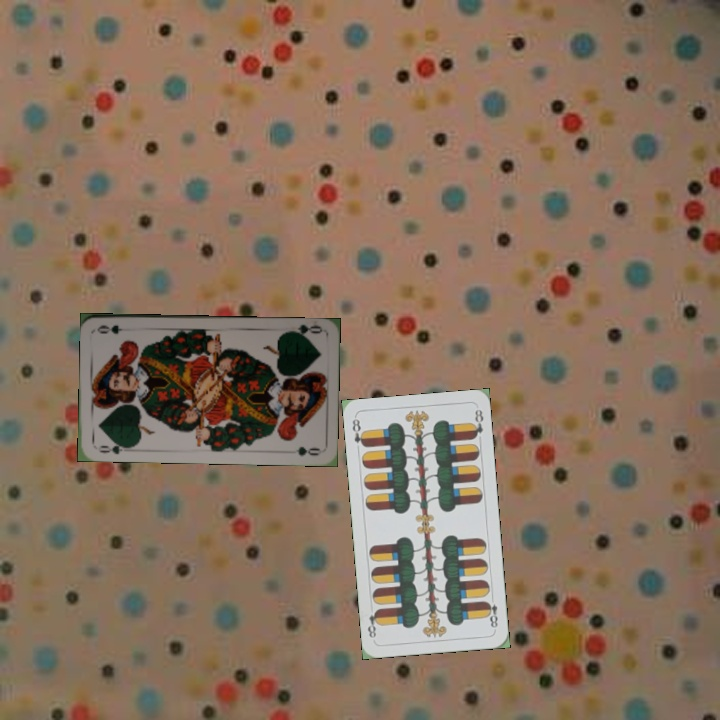E8: (348, 415, 368, 450), (482, 592, 500, 630)
GO: (283, 321, 324, 340), (95, 438, 133, 457)
